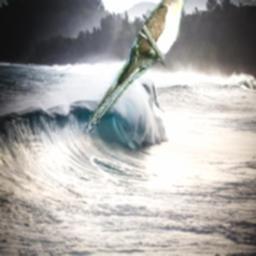Cuckoo: (82, 0, 196, 138)
